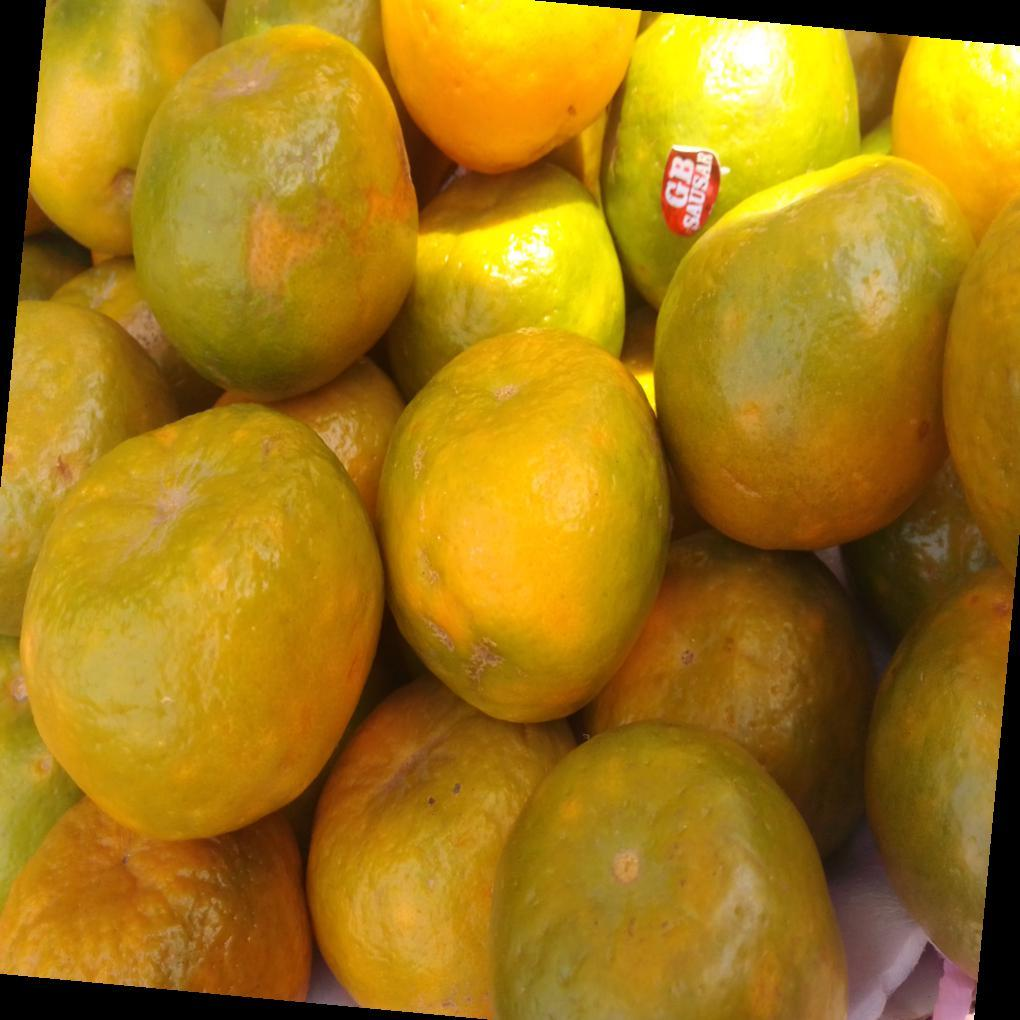FreshGuava: (0, 0, 864, 1020)
